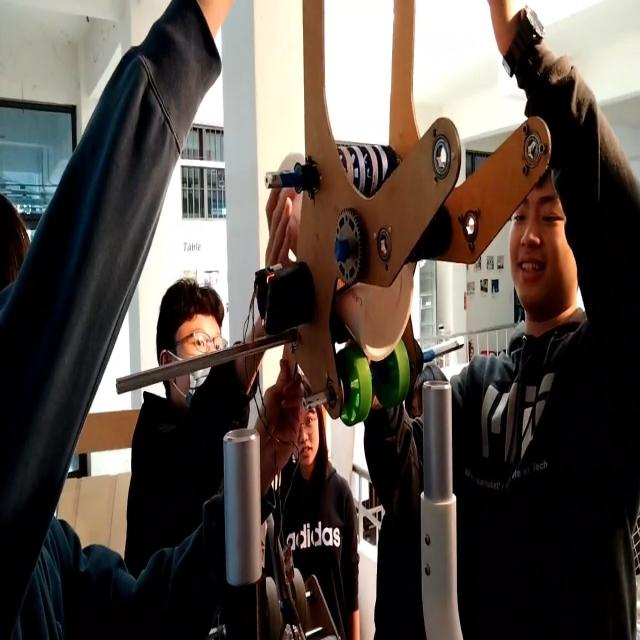CORAL: (272, 150, 416, 360)
